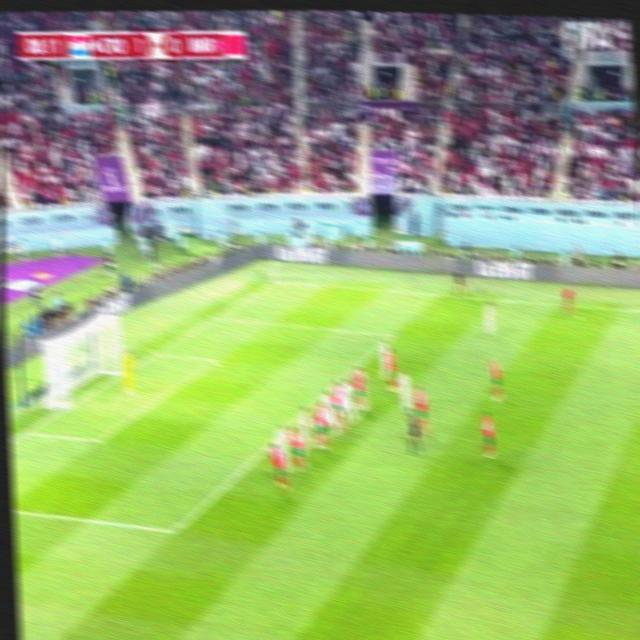bigarea_bottom_inner: (164, 519, 184, 542)
bigarea_top_inner: (384, 329, 396, 340)
bigarea_top_outter: (209, 311, 220, 321)
bottom_arc_area_intersection: (258, 441, 271, 453)
corner: (269, 276, 280, 284)
smallarea_bottom_inner: (90, 431, 105, 447)
smallarea_bottom_outter: (16, 423, 31, 438)
smallarea_top_inner: (207, 354, 220, 365)
smallarea_top_outter: (150, 346, 163, 358)
